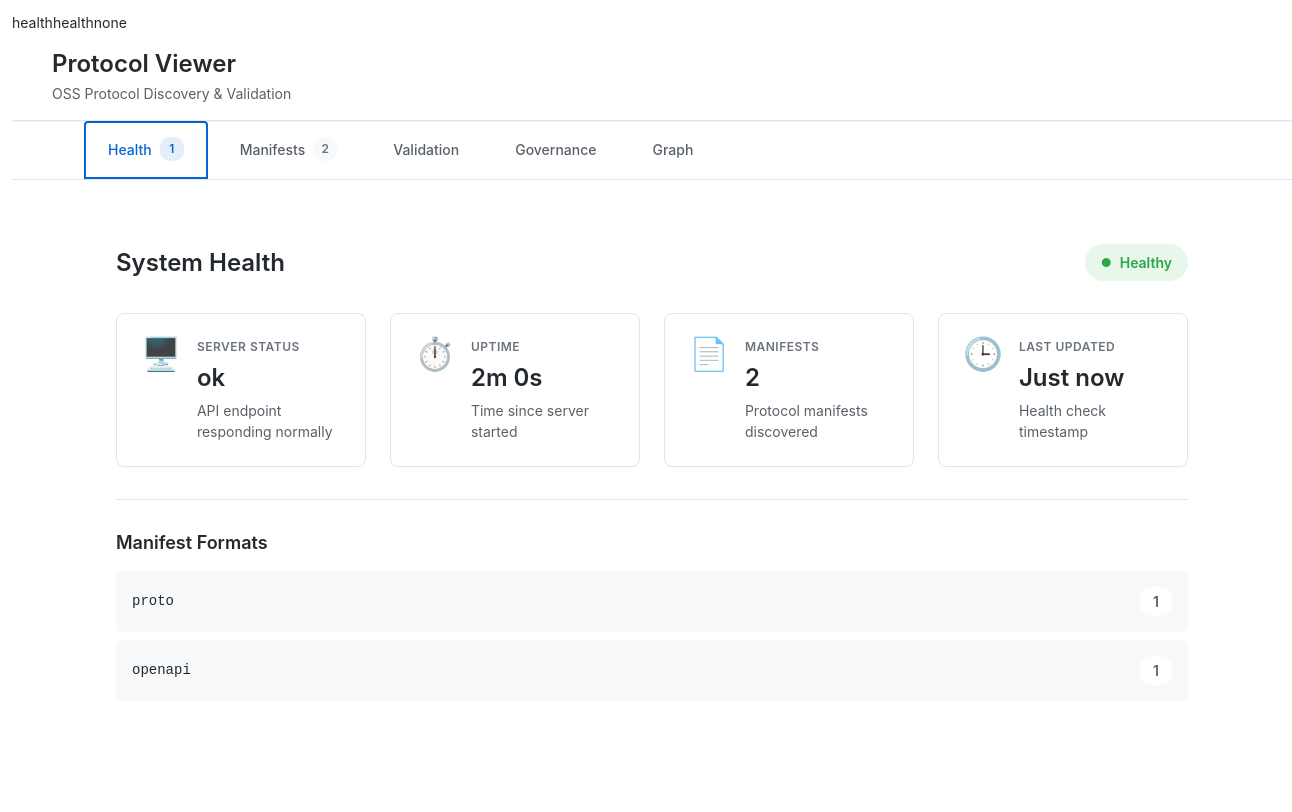
App semantic instrumentation › updates registry when switching tabs
Expected: the heading "System Health" is shown, top-left (116, 248), bottom-right (285, 278)
Click the tab "Validation" at coordinates (426, 150), box top-left (369, 121), bottom-right (483, 179)
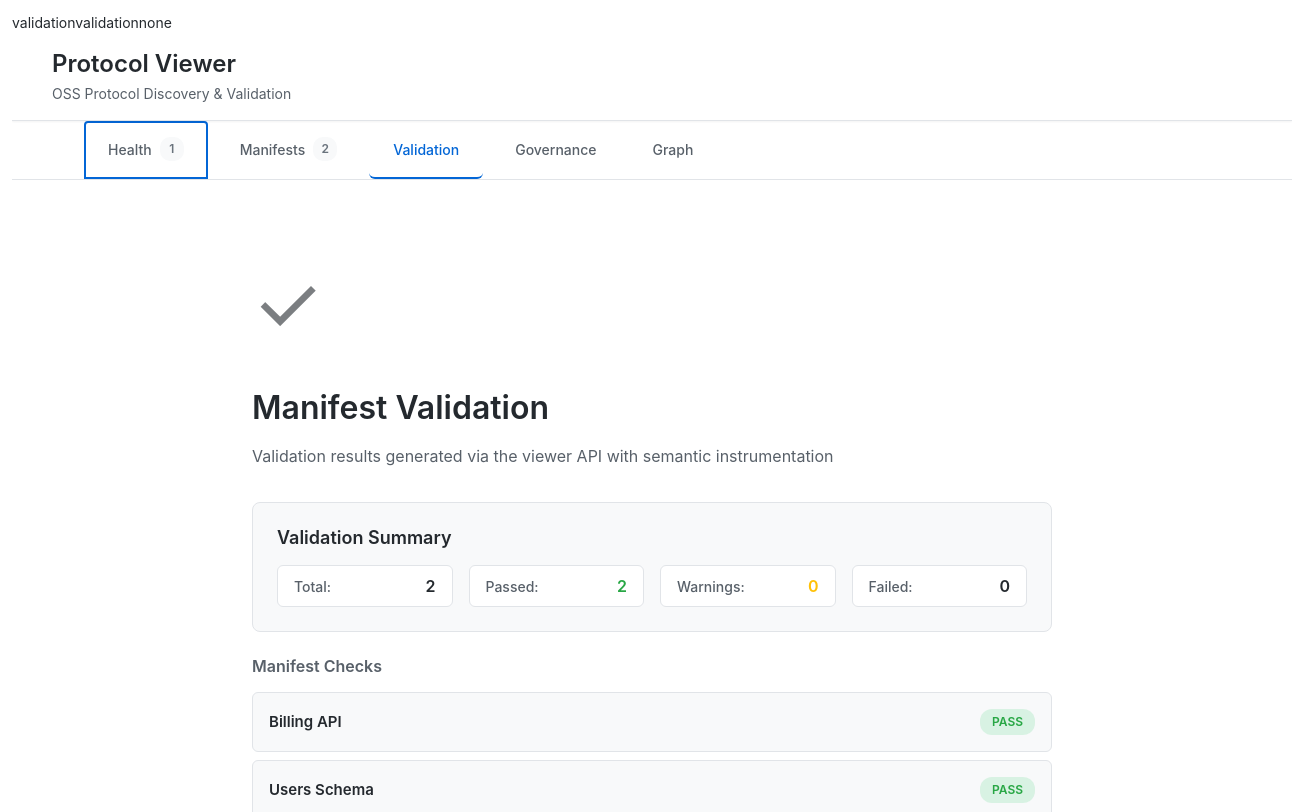
Expected: the heading "Manifest Validation" is shown, top-left (252, 388), bottom-right (549, 427)
Expected: the text with test id "registry-active-tab" reads "validation", top-left (12, 14), bottom-right (75, 31)
Expected: the text with test id "registry-active-panels" reads "validation", top-left (75, 14), bottom-right (139, 31)
